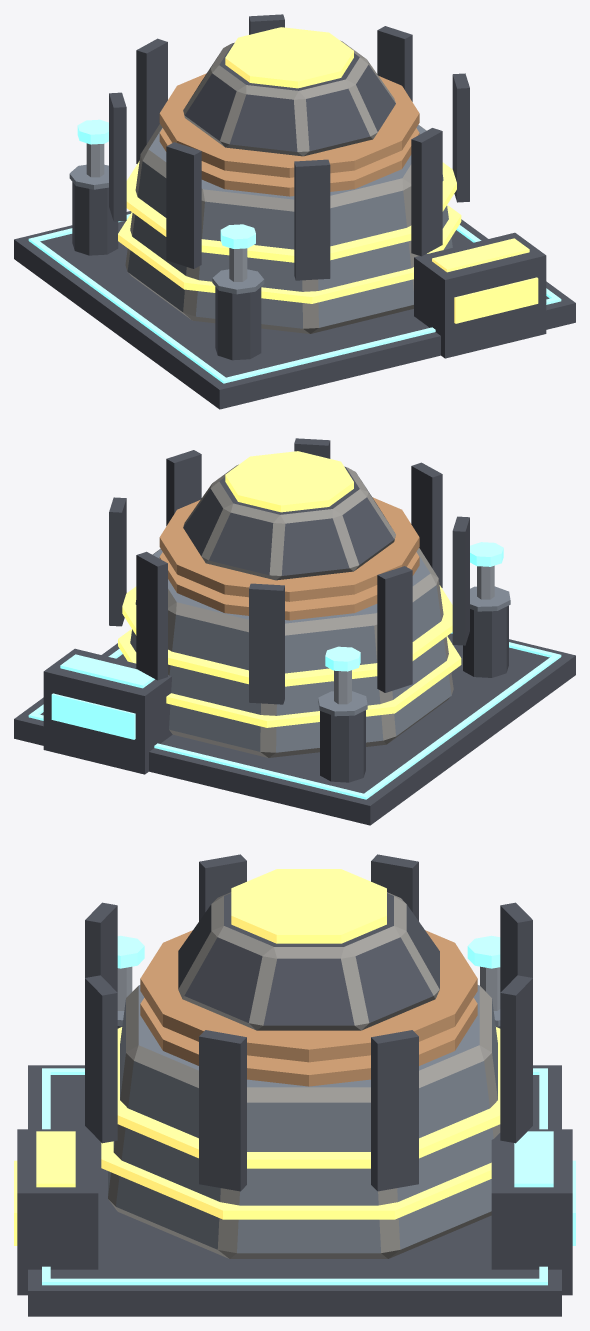
Rendered from fornalha_sem_textura.glb.
3 renders of one model, top to bottom at view 1: azimuth 30°, elevation 25°; view 2: azimuth 150°, elevation 25°; view 3: azimuth 270°, elevation 25°, orthographic. The views are drawn at different scales.
Parts seen in each view (by area): view 1: fornalha_corpo, fornalha_pistao1, fornalha_pistao0; view 2: fornalha_corpo, fornalha_pistao0, fornalha_pistao1; view 3: fornalha_corpo, fornalha_pistao0, fornalha_pistao1.
Boxes of the visible parts, x1=… form: fornalha_corpo: x1=14, y1=14, x2=575, y2=409; fornalha_pistao1: x1=220, y1=224, x2=255, y2=281; fornalha_pistao0: x1=77, y1=119, x2=108, y2=177; fornalha_corpo: x1=14, y1=438, x2=575, y2=825; fornalha_pistao0: x1=325, y1=646, x2=360, y2=704; fornalha_pistao1: x1=470, y1=542, x2=503, y2=599; fornalha_corpo: x1=14, y1=854, x2=575, y2=1316; fornalha_pistao0: x1=467, y1=935, x2=500, y2=1010; fornalha_pistao1: x1=117, y1=935, x2=144, y2=1010.
Bounding box in the file's own units: 1.9 × 1.18 × 2.
